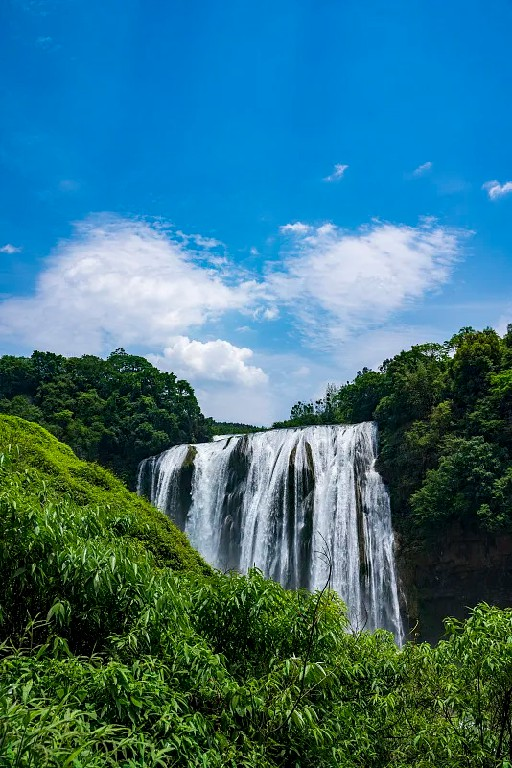Huangguoshu: (134, 419, 403, 648)
